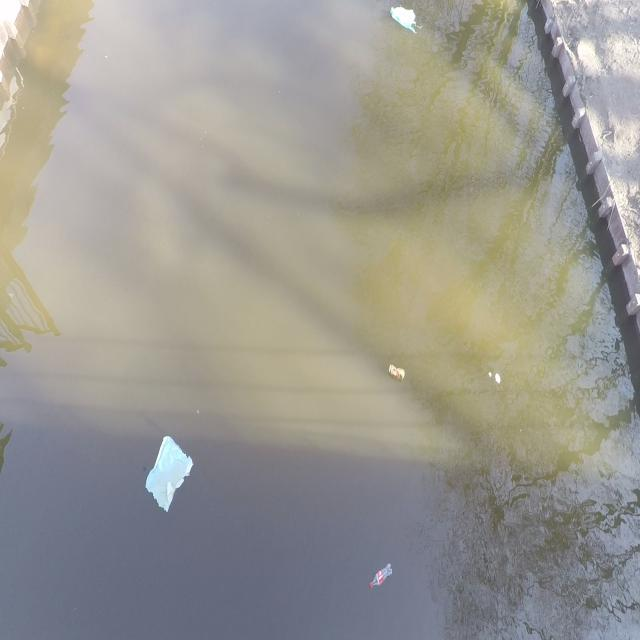Autre plastique: (141, 435, 197, 517)
Bouteille plastique: (366, 564, 396, 592)
Non plastique: (385, 363, 407, 381)
Sac plastique: (383, 4, 424, 38)
